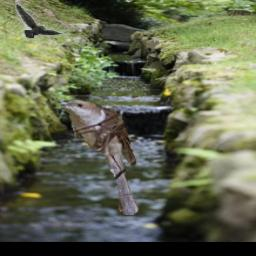Crow: (15, 0, 72, 38)
Cuckoo: (56, 100, 140, 216)
